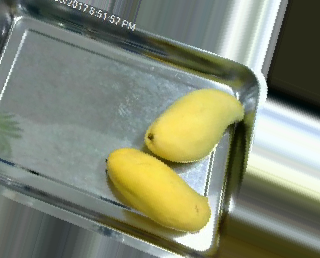Mango: (106, 145, 212, 237), (141, 85, 247, 164)
